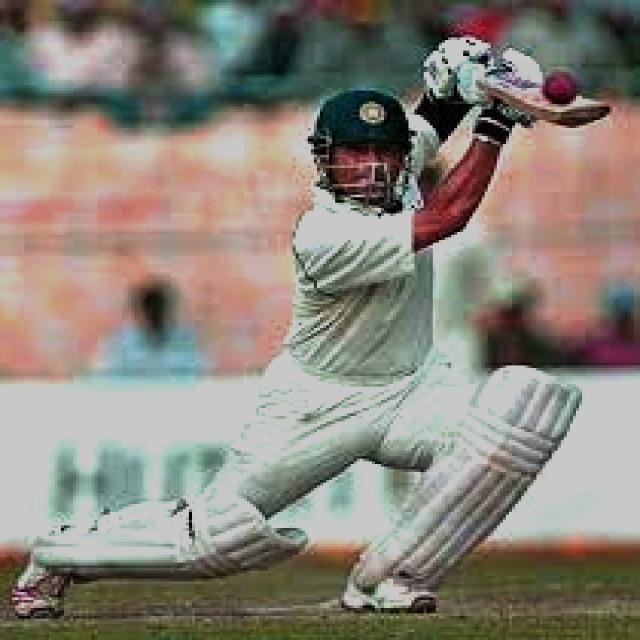bat: (480, 68, 614, 129)
toe: (546, 106, 605, 125)
